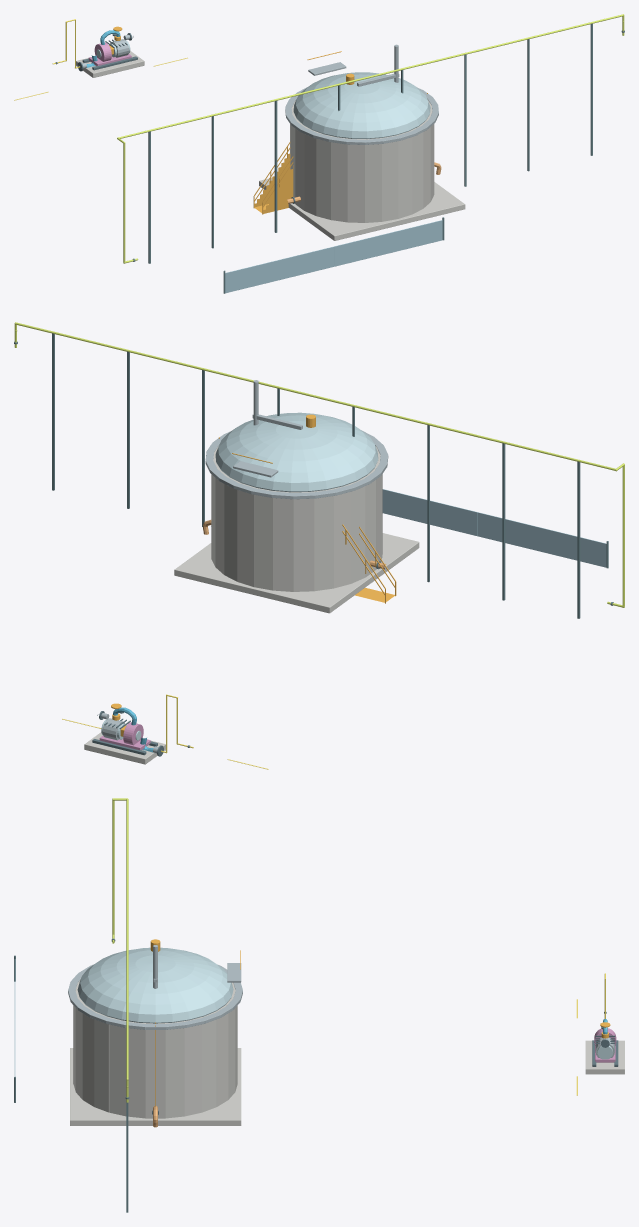
The picture shows the model from 3 angles, top to bottom: view 1: azimuth 30°, elevation 25°; view 2: azimuth 150°, elevation 25°; view 3: azimuth 270°, elevation 25°; orthographic projection. The views are drawn at different scales.
Parts seen in each view (by area): view 1: render-batch-7, render-batch-5, render-batch-3, render-batch-2, render-batch-4, render-batch-8, render-batch-10, render-batch-6; view 2: render-batch-7, render-batch-5, render-batch-3, render-batch-2, render-batch-4, render-batch-8, render-batch-10, render-batch-6; view 3: render-batch-7, render-batch-5, render-batch-4, render-batch-8.
Boxes of the visible parts, x1=… form: render-batch-7: x1=76, y1=51, x2=465, y2=240; render-batch-5: x1=96, y1=40, x2=430, y2=138; render-batch-3: x1=225, y1=220, x2=442, y2=293; render-batch-2: x1=55, y1=23, x2=624, y2=293; render-batch-4: x1=82, y1=31, x2=438, y2=144; render-batch-8: x1=117, y1=14, x2=624, y2=263; render-batch-10: x1=109, y1=26, x2=427, y2=214; render-batch-6: x1=88, y1=42, x2=131, y2=65; render-batch-7: x1=84, y1=446, x2=419, y2=764; render-batch-5: x1=101, y1=412, x2=378, y2=740; render-batch-3: x1=382, y1=489, x2=606, y2=567; render-batch-2: x1=14, y1=333, x2=613, y2=747; render-batch-4: x1=101, y1=380, x2=388, y2=753; render-batch-8: x1=14, y1=322, x2=624, y2=607; render-batch-10: x1=111, y1=414, x2=396, y2=736; render-batch-6: x1=99, y1=722, x2=150, y2=750; render-batch-7: x1=70, y1=980, x2=624, y2=1125; render-batch-5: x1=77, y1=947, x2=613, y2=1059; render-batch-4: x1=68, y1=945, x2=614, y2=1057; render-batch-8: x1=112, y1=798, x2=128, y2=1102.
Size of the model in its own units: 47.32 by 12.96 by 43.47.
